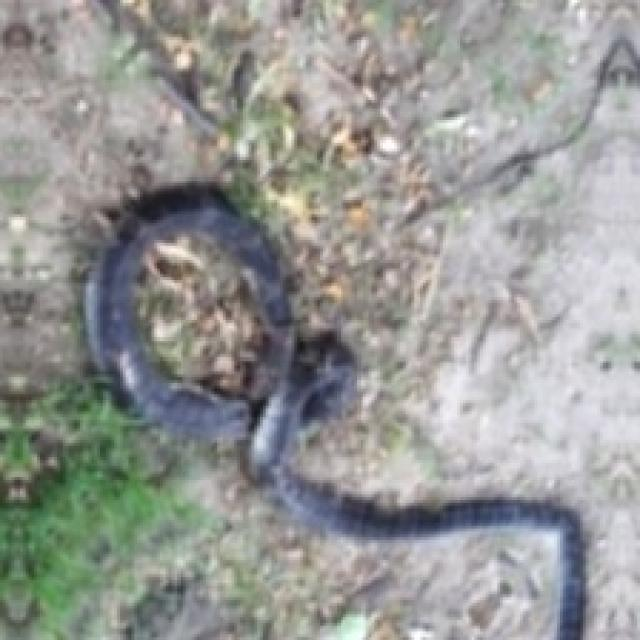king cobra: (86, 183, 580, 637), (134, 234, 266, 397)
